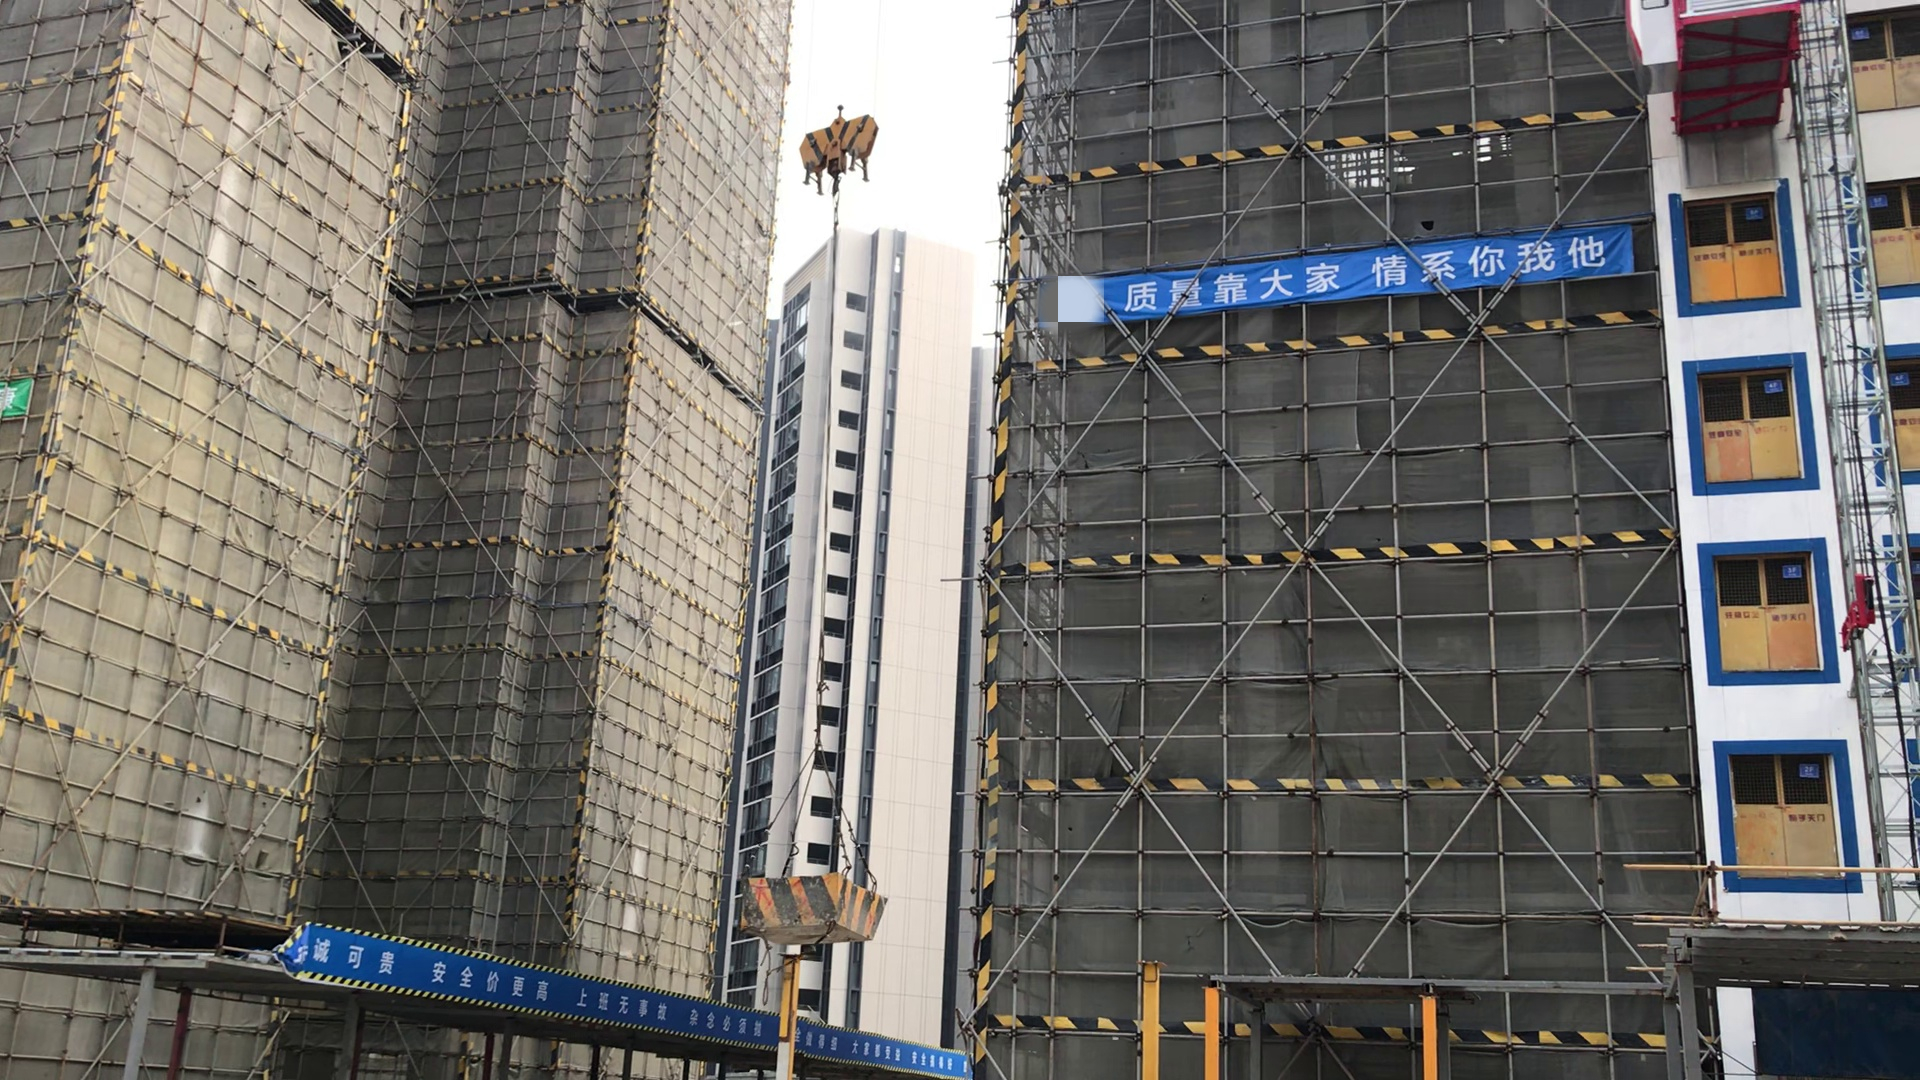hook: (790, 94, 887, 196)
hopper: (742, 866, 909, 944)
slogan: (305, 922, 964, 1068), (1059, 233, 1633, 326)
